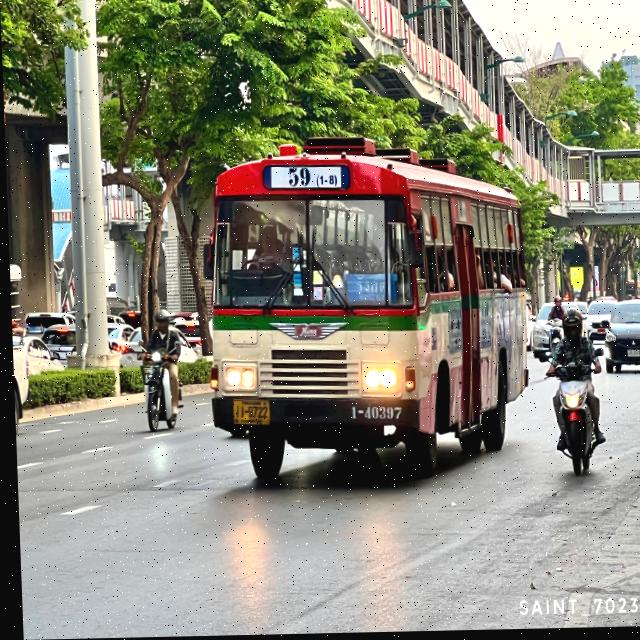BMTA-bus: (192, 119, 535, 497)
Bus-Line-Number: (261, 164, 352, 195)
Destination-Sign-Normal: (342, 276, 395, 307)
